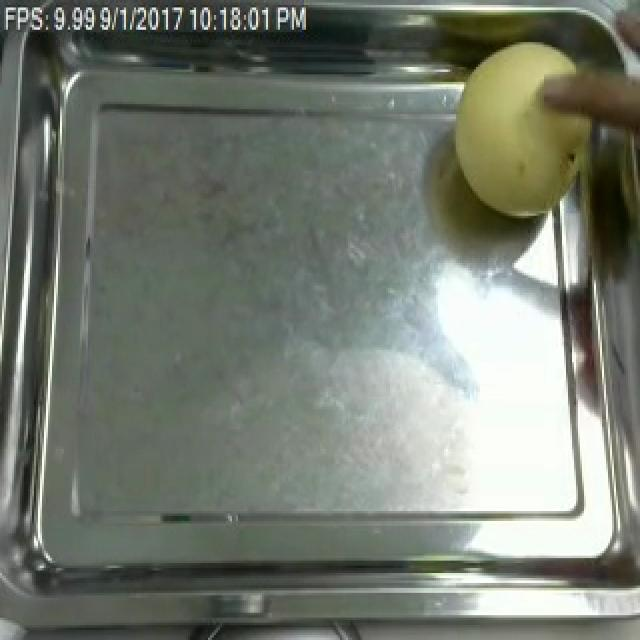Fruit: (442, 30, 634, 228)
